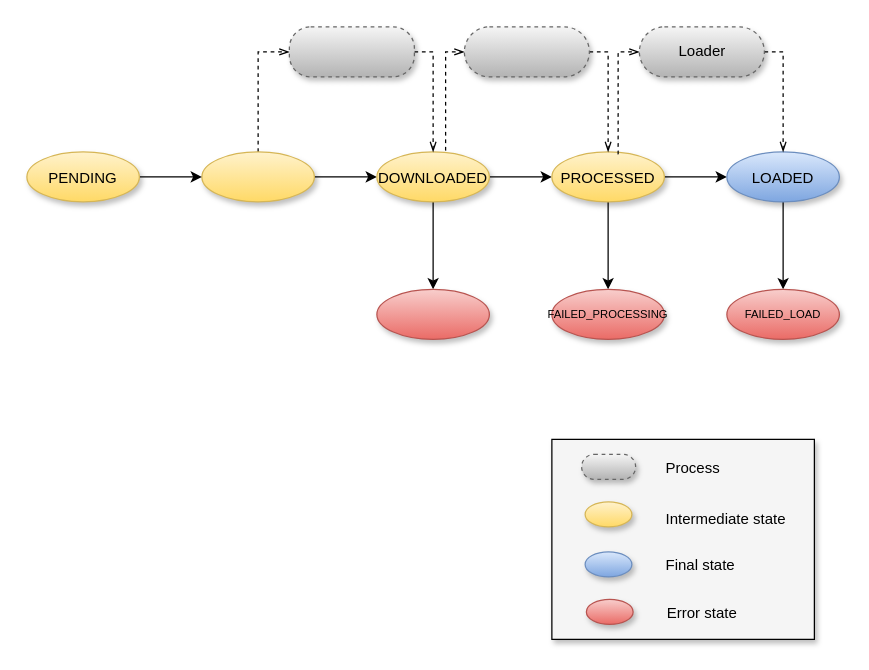
This 869x670 diagram has some shape labels left out. Here are the shapes that lost their labels. From the top down, the centre of each, then its label:
the point at 352,53: Downloader
the point at 527,53: Pipeline
the point at 259,178: QUEUED
the point at 434,315: FAILED_DOWNLOAD
